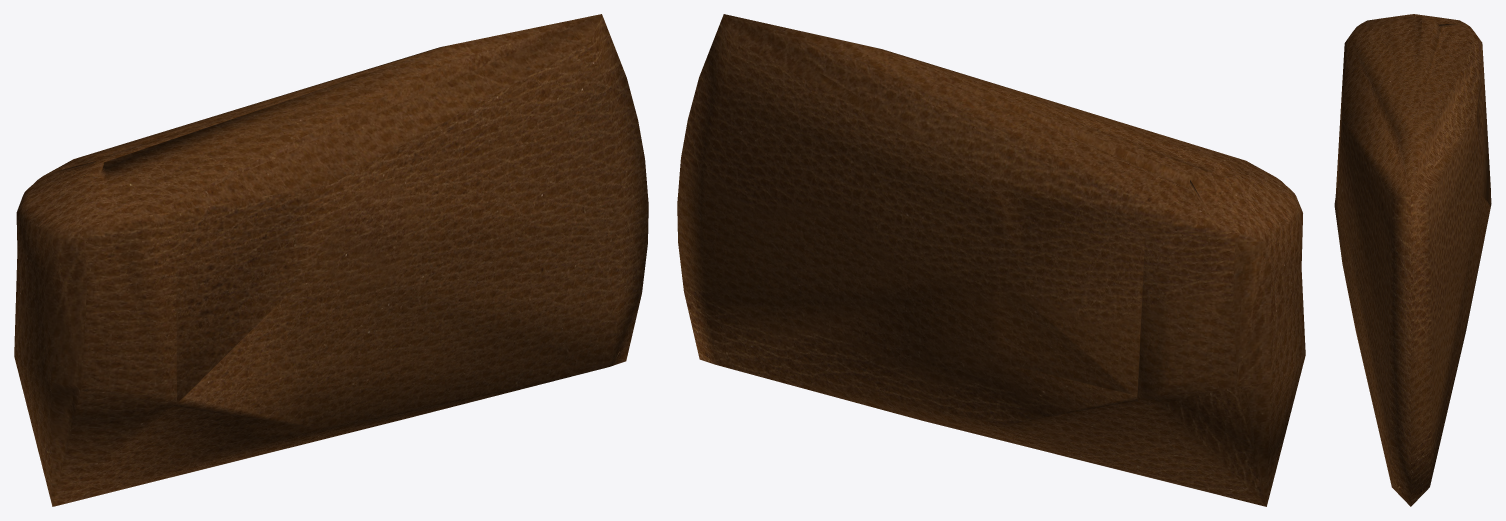
The model's file is axe-cover.glb.
The picture shows the model from 3 angles, left to right: view 1: azimuth 30°, elevation 25°; view 2: azimuth 150°, elevation 25°; view 3: azimuth 270°, elevation 25°; orthographic projection. The views are drawn at different scales.
Visible parts, largest first — view 1: Fitted blade edge cover; view 2: Fitted blade edge cover; view 3: Fitted blade edge cover.
Part boxes in pixels (left/top/right/bottom): Fitted blade edge cover: left=14, top=14, right=648, bottom=506; Fitted blade edge cover: left=677, top=14, right=1305, bottom=506; Fitted blade edge cover: left=1334, top=14, right=1491, bottom=506.
Size of the model in its own units: 21.05 by 11.87 by 5.41.
1 material, 1 textured.
